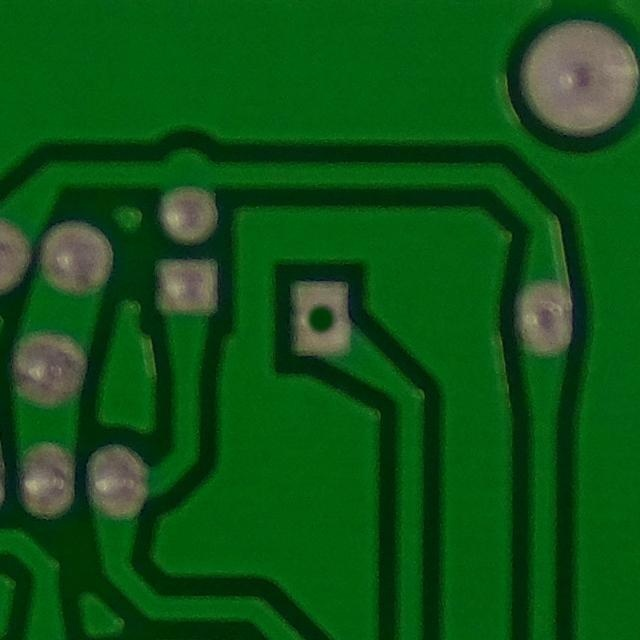missing_hole: (279, 271, 362, 364)
